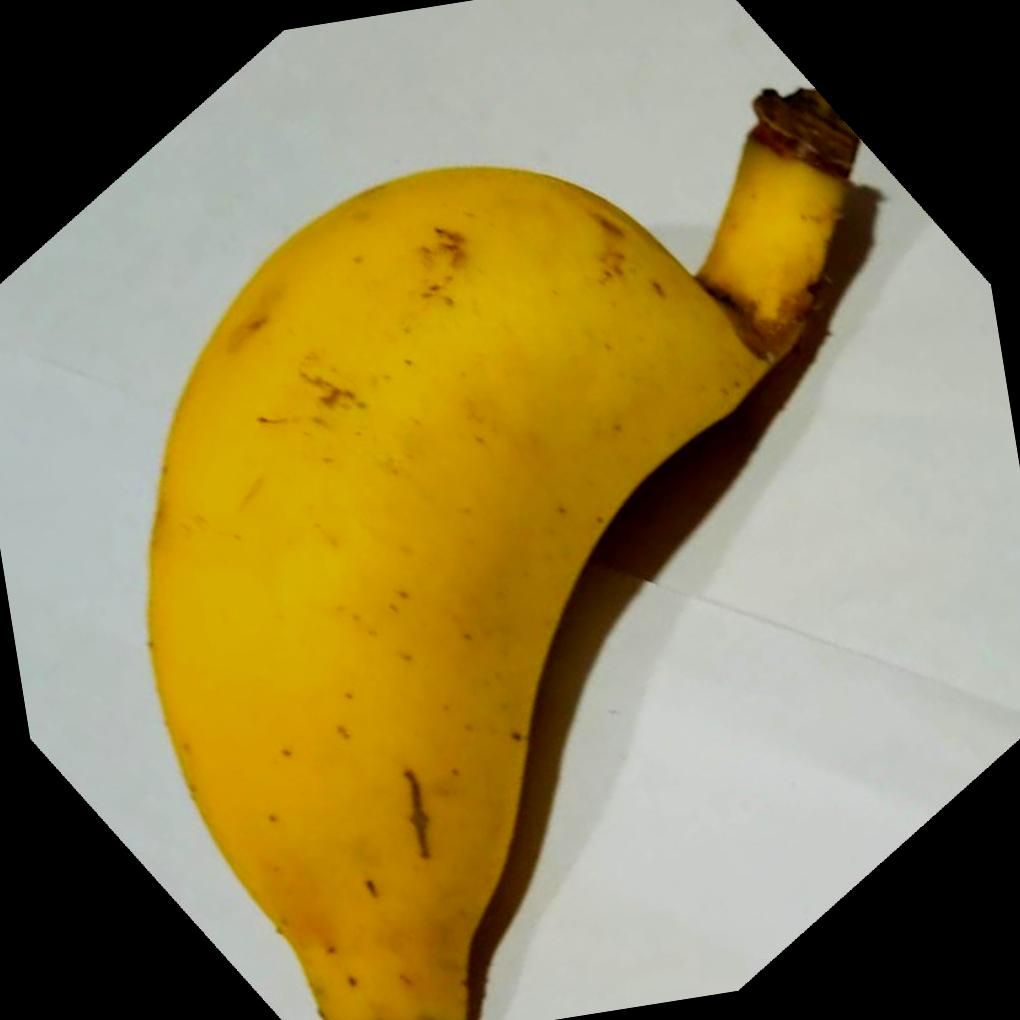Banana Ripe: (78, 89, 985, 1020)
